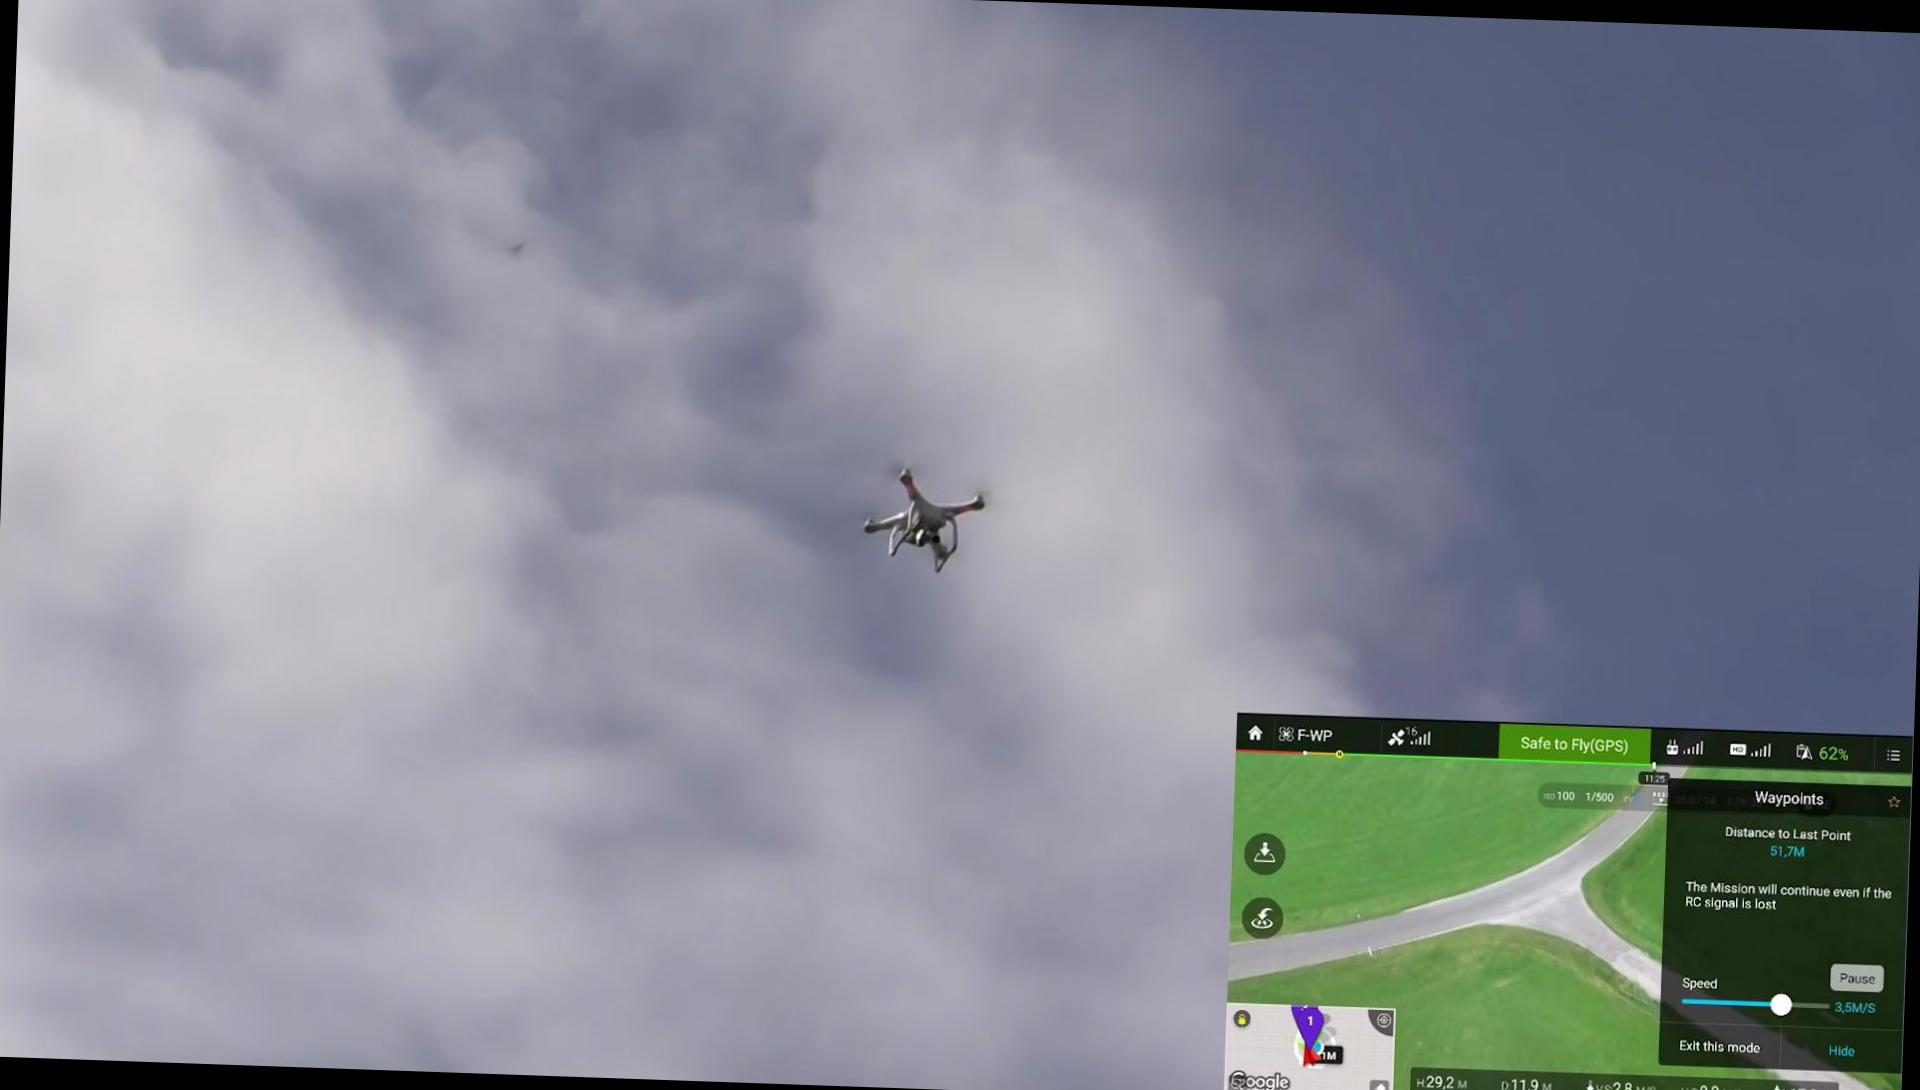drone: (849, 457, 994, 581)
